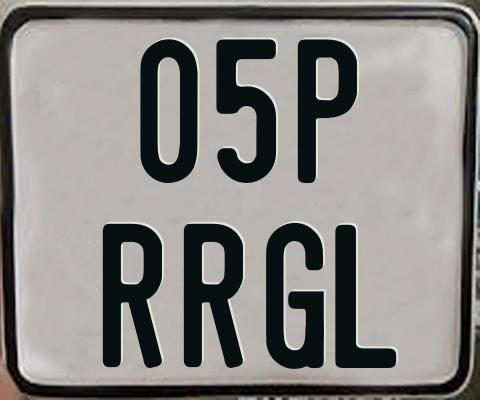0: (140, 36, 199, 181)
5: (213, 38, 276, 185)
G: (264, 221, 327, 367)
L: (332, 222, 395, 369)
P: (297, 39, 357, 185)
R: (102, 222, 163, 366), (181, 224, 241, 368)
